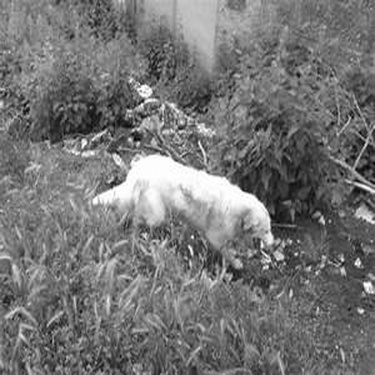dog: (78, 140, 284, 275)
